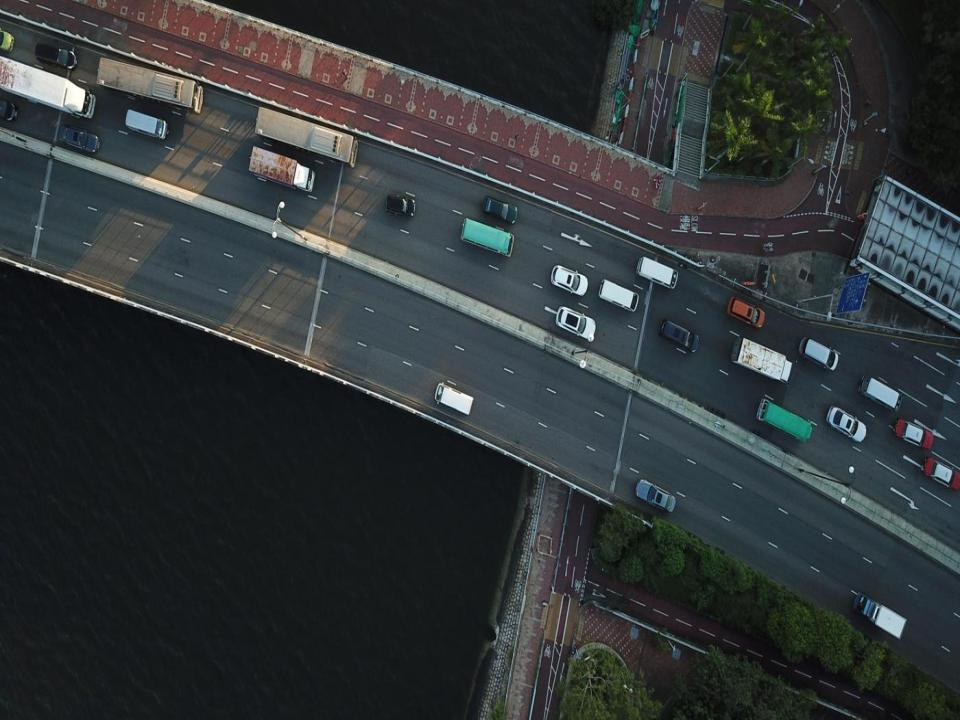bus: (254, 106, 358, 165), (756, 398, 812, 444), (461, 217, 513, 257)
car: (826, 405, 867, 442), (555, 306, 596, 340), (635, 480, 677, 512), (922, 457, 960, 491), (58, 125, 101, 153), (550, 265, 588, 295), (894, 418, 932, 448), (482, 195, 518, 224), (386, 194, 416, 216), (0, 100, 18, 124), (0, 27, 15, 52)
truck: (0, 55, 96, 118), (96, 57, 204, 113), (731, 335, 793, 385), (249, 147, 315, 193), (853, 591, 907, 639)
van: (858, 374, 903, 410), (659, 318, 699, 354), (434, 381, 474, 416), (125, 109, 170, 140), (798, 336, 839, 370), (638, 255, 678, 288), (599, 280, 639, 312), (728, 296, 764, 328), (34, 44, 78, 69)
